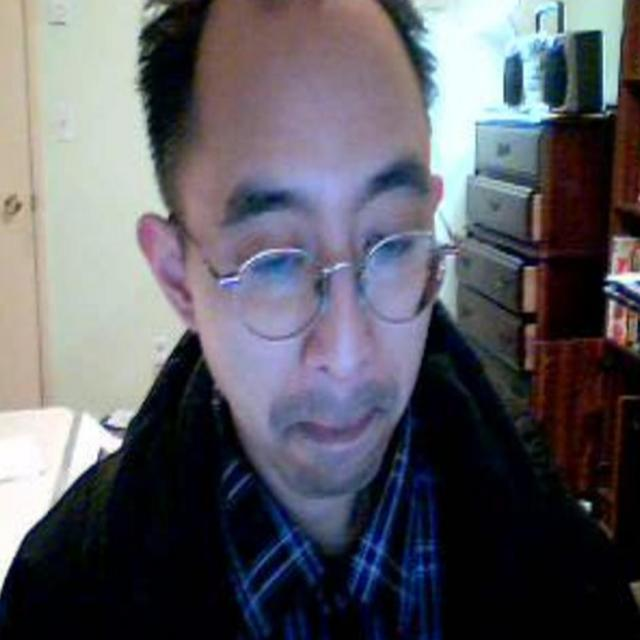Glasses: (169, 212, 467, 344)
